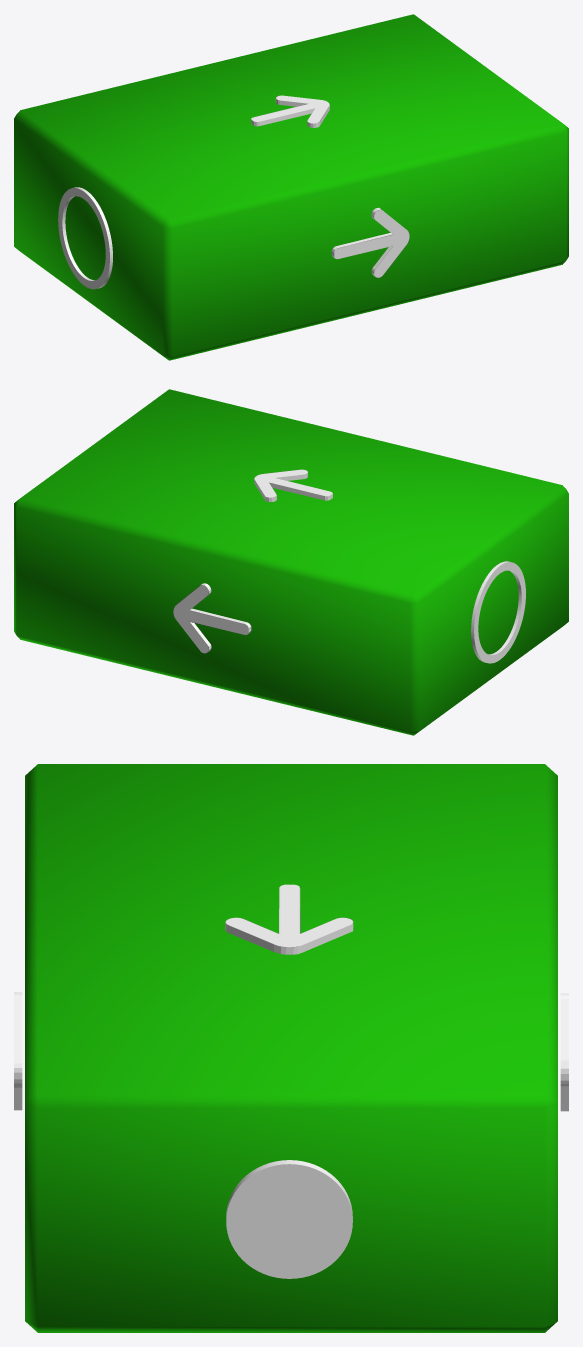
File: BigBoxTapFlowBox_2_1_3_Clean_test.fbx
The picture shows the model from 3 angles, top to bottom: view 1: azimuth 30°, elevation 25°; view 2: azimuth 150°, elevation 25°; view 3: azimuth 270°, elevation 25°; orthographic projection. The views are drawn at different scales.
Parts seen in each view (by area): view 1: BigBoxTapFlowBox_2_1_3_Clean_test; view 2: BigBoxTapFlowBox_2_1_3_Clean_test; view 3: BigBoxTapFlowBox_2_1_3_Clean_test.
Part boxes in pixels (x1=…): BigBoxTapFlowBox_2_1_3_Clean_test: x1=14, y1=14, x2=568, y2=360; BigBoxTapFlowBox_2_1_3_Clean_test: x1=14, y1=389, x2=568, y2=735; BigBoxTapFlowBox_2_1_3_Clean_test: x1=14, y1=764, x2=568, y2=1332.
Size of the model in its own units: 3.22 by 1.14 by 2.18.
Materials: 1 (1 with a texture image).
